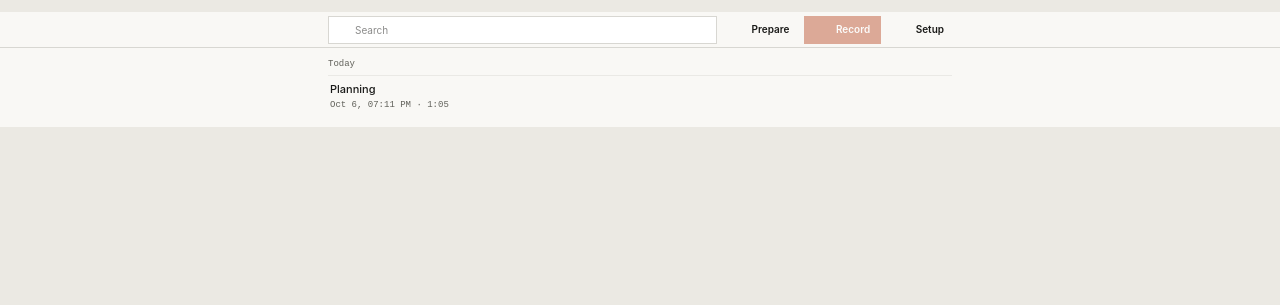
Test: ScribeApp › opens a summarized meeting as one document with compact header and tab actions
Click the button "Planning Oct 6, 07:11 PM · 1:05". click: (353, 89)
box: [328, 76, 924, 118]
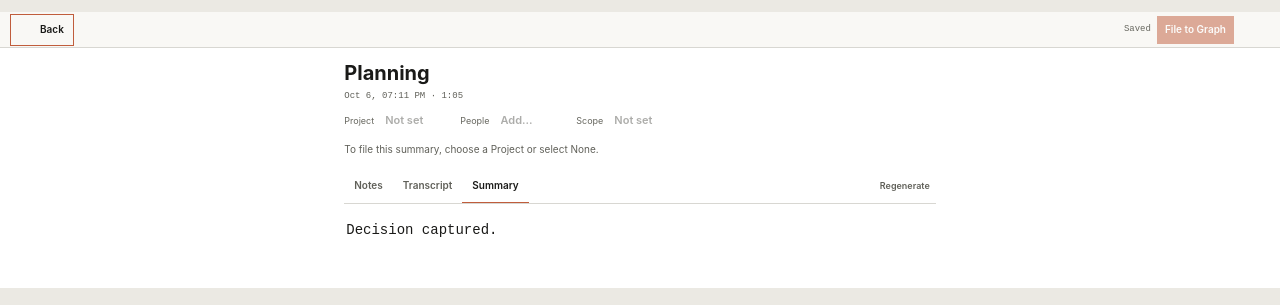
Check: the field named "Meeting title" holds "Planning", box [344, 61, 936, 86]
Check: the panel shows "Decision captured", box [346, 222, 498, 238]
Check: the button "File to Graph" is shown, box [1157, 16, 1234, 44]
